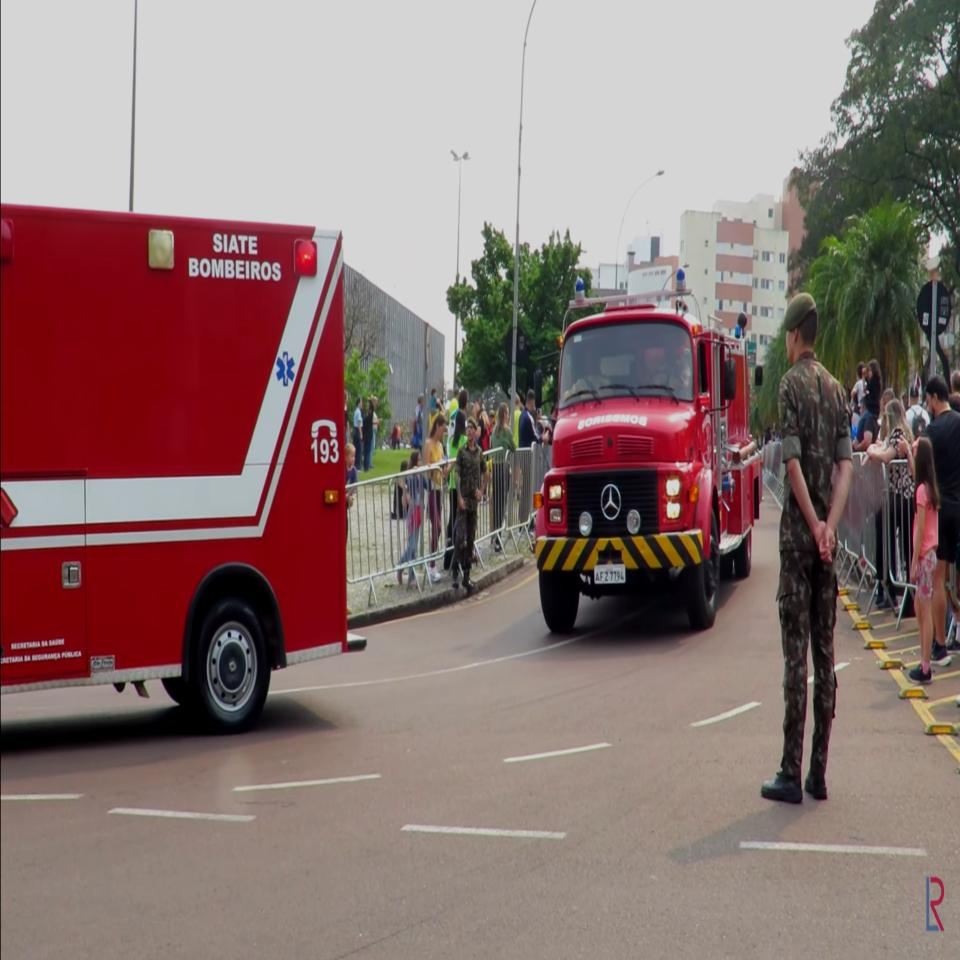bombeiro: (532, 267, 763, 633)
